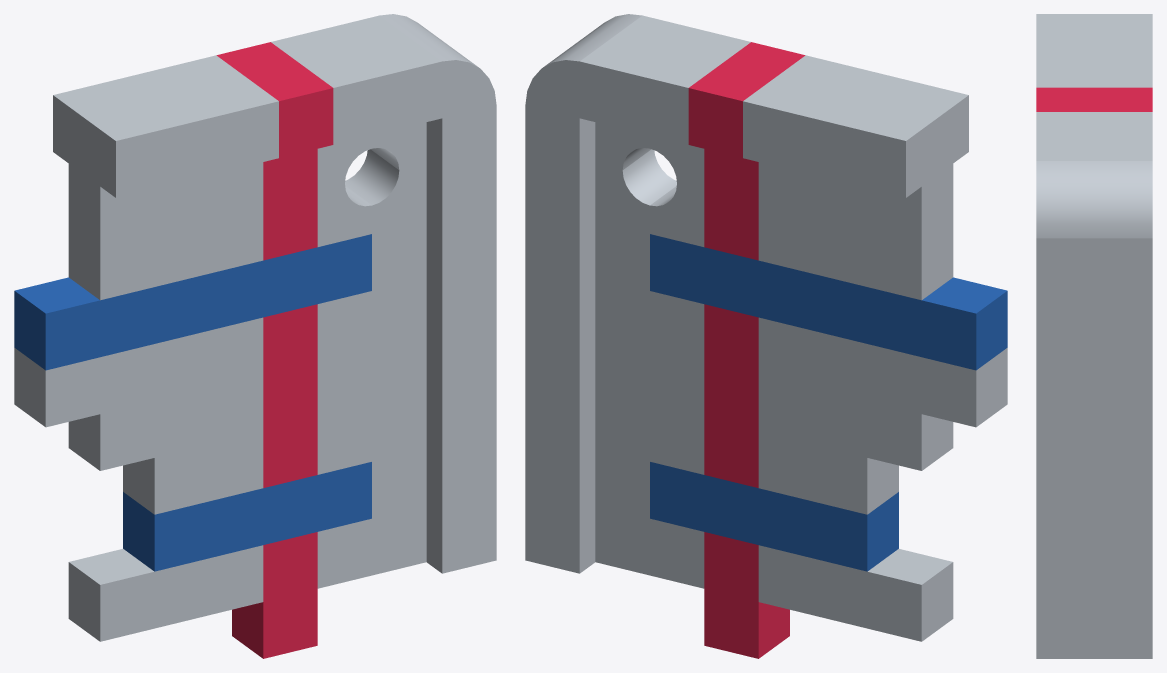
File: Broken Paper1.fbx
3 views of the same model, side by side, from view 1: azimuth 30°, elevation 25°; view 2: azimuth 150°, elevation 25°; view 3: azimuth 270°, elevation 25° (orthographic). The views are drawn at different scales.
Parts seen in each view (by area): view 1: generated; view 2: generated; view 3: generated.
Part boxes in pixels (bbox=[...]): generated: bbox=[14, 14, 496, 658]; generated: bbox=[525, 14, 1007, 658]; generated: bbox=[1036, 14, 1152, 658].
Size of the model in its own units: 80 by 100 by 20.
